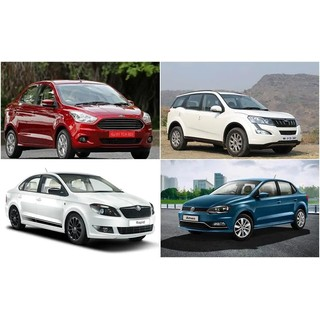car: (3, 78, 152, 158), (5, 171, 154, 248), (167, 90, 300, 157), (177, 177, 309, 241)
